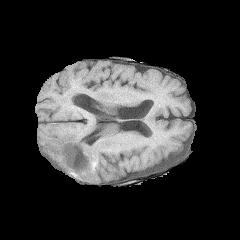glioma: (39, 117, 106, 182)
